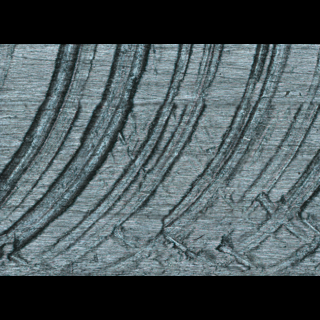d: (2, 46, 320, 275)
